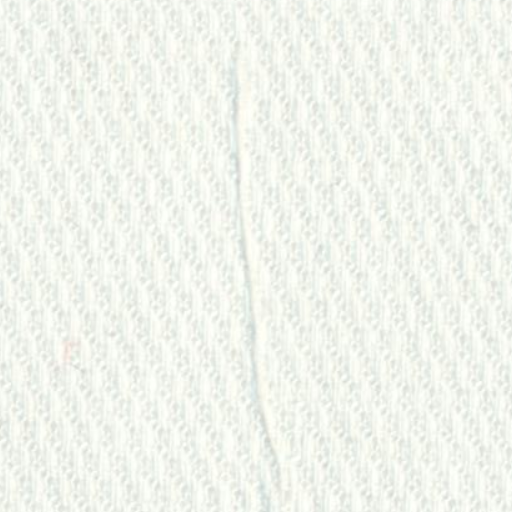DuanSha: (205, 19, 317, 499)
